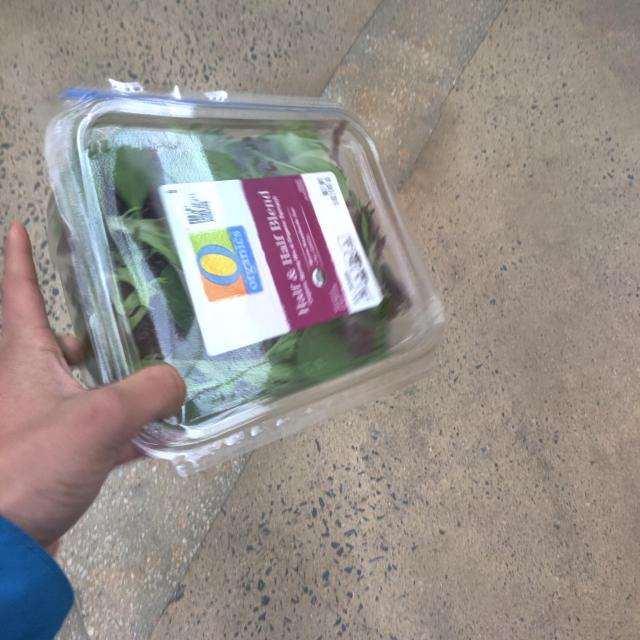Salad: (20, 62, 454, 466)
